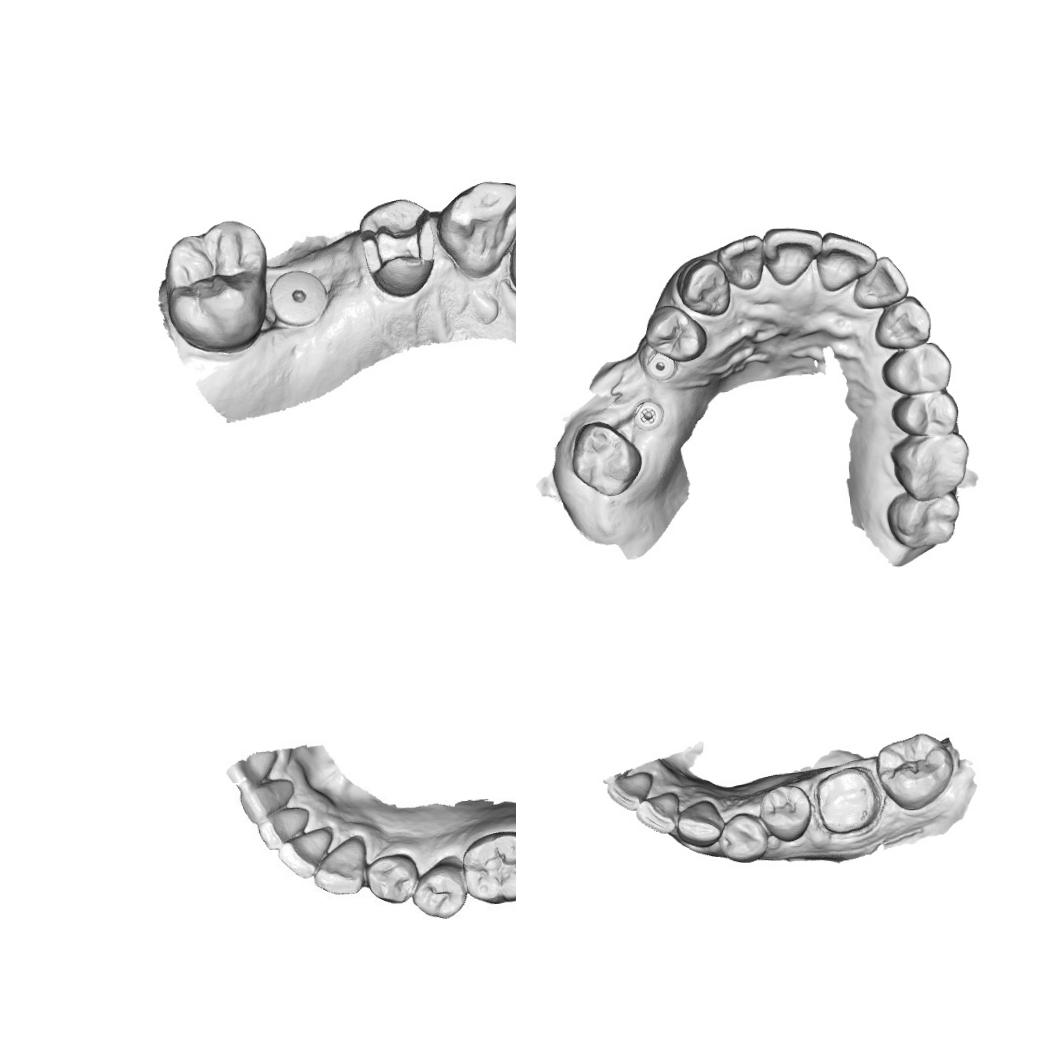canine: (435, 176, 516, 281), (872, 294, 934, 352), (674, 256, 731, 318), (312, 836, 368, 897), (675, 797, 726, 850)
crown: (813, 763, 881, 836)
implant: (270, 268, 331, 333), (644, 348, 678, 382)
implant_plus: (626, 388, 674, 436)
incisor: (761, 224, 825, 290), (815, 229, 879, 293), (850, 254, 910, 310), (275, 826, 336, 880), (716, 233, 766, 291), (238, 778, 297, 824), (255, 805, 310, 851), (633, 790, 682, 836), (604, 769, 655, 812)
inlay: (356, 206, 438, 276)
molar: (161, 216, 274, 356), (874, 730, 956, 812), (888, 430, 972, 503), (570, 418, 644, 498), (884, 488, 958, 554), (459, 828, 516, 906)
premolar: (878, 339, 954, 397), (643, 303, 708, 364), (409, 859, 469, 920), (889, 388, 960, 438), (757, 782, 814, 844), (364, 850, 422, 907), (717, 810, 770, 865)
